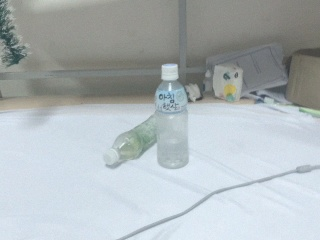bottle: (153, 63, 192, 168), (102, 112, 158, 169)
box: (285, 45, 320, 123)
